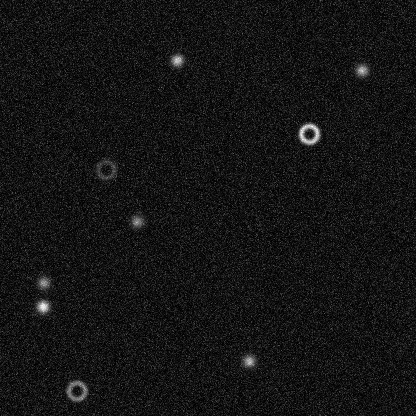Ring: (93, 157, 117, 181), (296, 121, 320, 145), (64, 378, 88, 402)
Spot: (168, 52, 184, 68), (353, 62, 369, 78), (35, 274, 51, 290), (240, 352, 256, 368), (34, 298, 50, 314), (128, 213, 144, 229)
